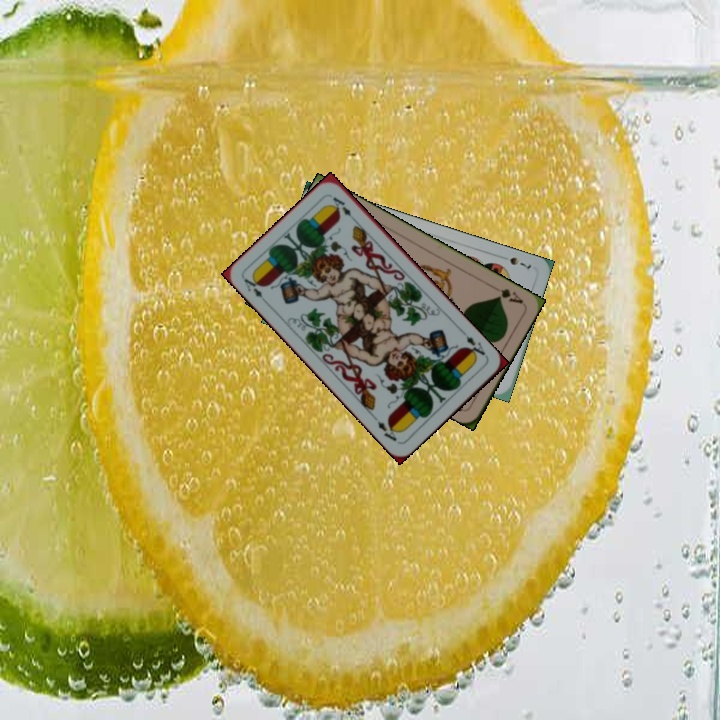EA: (240, 272, 271, 307), (461, 331, 490, 361)
GA: (492, 284, 526, 306)
S7: (506, 253, 534, 272)
